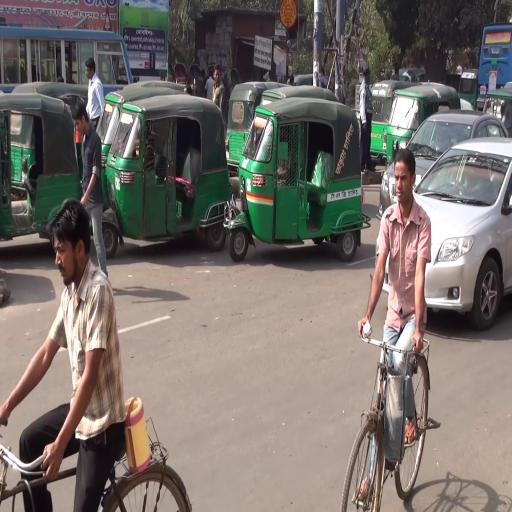bicycle: (1, 407, 196, 512), (340, 318, 442, 512)
bus: (1, 26, 133, 115), (480, 19, 512, 94)
car: (375, 134, 512, 334), (379, 110, 510, 231)
rickshaw: (227, 65, 244, 97), (190, 60, 204, 94), (177, 63, 190, 91), (165, 61, 176, 87), (261, 70, 276, 88)
three wheelers CNG: (229, 98, 368, 271), (101, 99, 231, 257), (3, 91, 86, 264), (100, 82, 186, 211), (385, 79, 462, 176), (228, 80, 291, 186), (371, 73, 418, 178), (12, 81, 96, 120), (259, 86, 343, 114), (481, 86, 512, 139), (289, 64, 337, 97), (287, 72, 340, 95), (457, 68, 481, 109)
